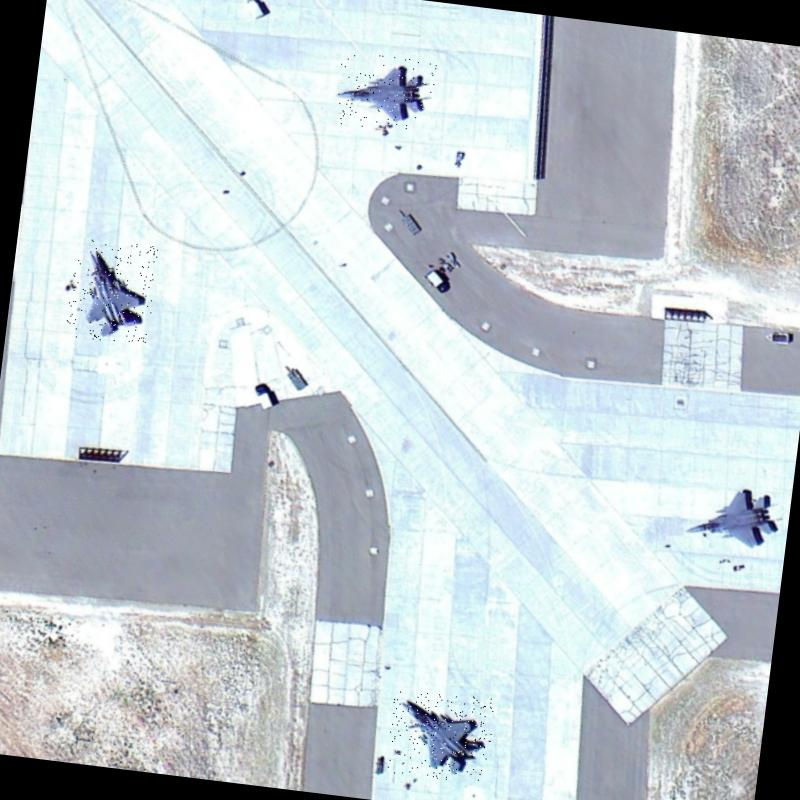A13: (384, 686, 496, 785), (677, 466, 788, 562), (64, 236, 159, 348), (328, 50, 436, 134)
